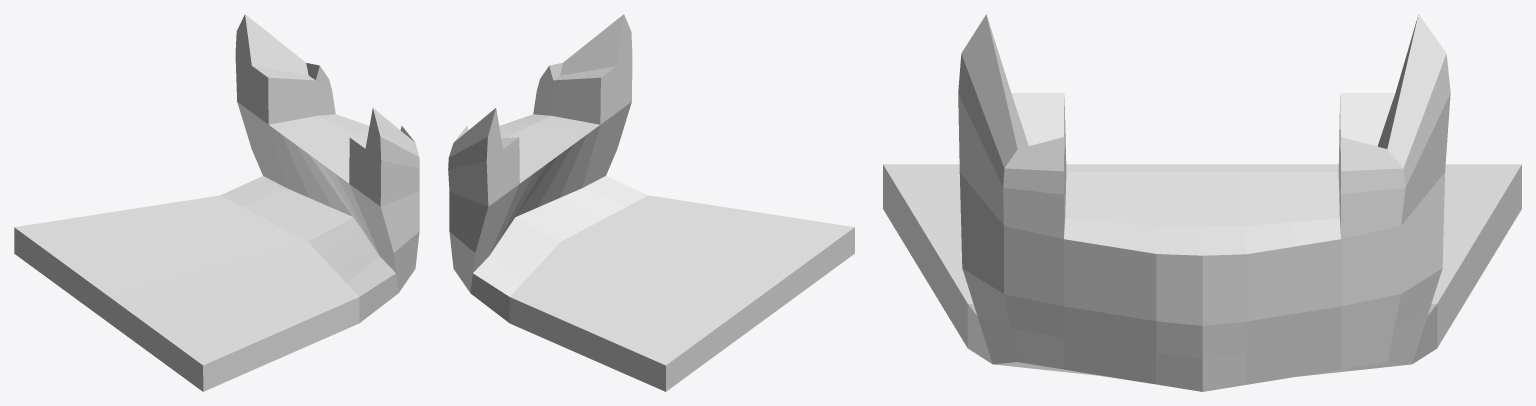
Rendered from Drones_2.fbx.
3 views of the same model, side by side, from view 1: azimuth 30°, elevation 25°; view 2: azimuth 150°, elevation 25°; view 3: azimuth 270°, elevation 25° (orthographic). The views are drawn at different scales.
Visible parts, largest first — view 1: Cube.003; view 2: Cube.003; view 3: Cube.003.
Boxes of the visible parts, x1,y1,x2,y2 form: Cube.003: (14, 14, 419, 391); Cube.003: (448, 14, 854, 391); Cube.003: (883, 14, 1521, 391).
Size of the model in its own units: 141 by 98.91 by 159.
